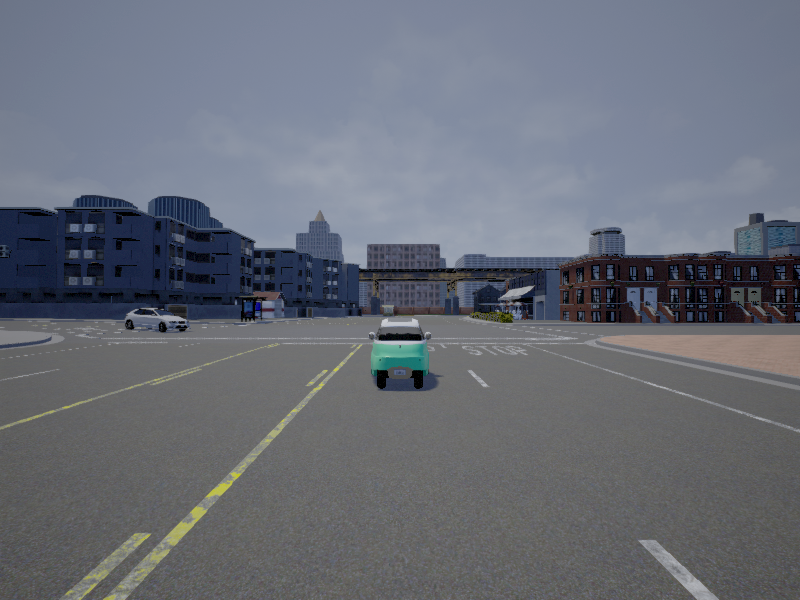Benign: (369, 317, 432, 389), (124, 306, 191, 332)
